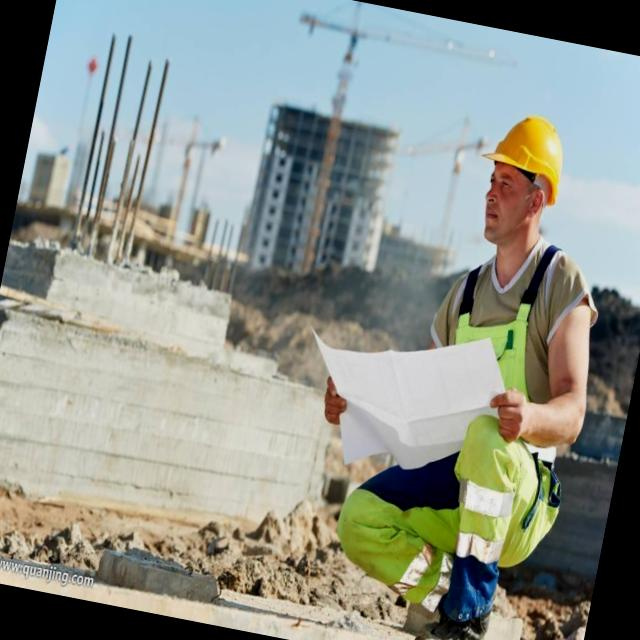helmet: (468, 100, 580, 211)
no-goggles: (484, 163, 540, 206)
no-vest: (409, 224, 613, 463)
